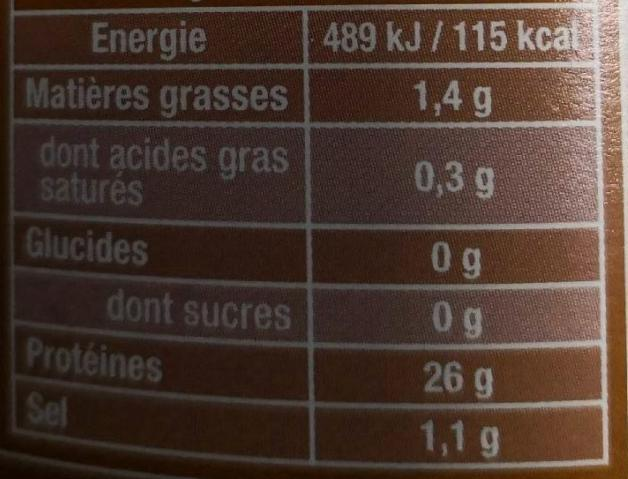column: (22, 28, 295, 442), (321, 18, 573, 454)
line: (26, 139, 572, 212), (29, 402, 573, 453), (29, 344, 572, 394), (25, 287, 571, 335), (27, 231, 574, 276), (24, 21, 575, 60), (22, 80, 575, 115)
table: (2, 10, 617, 466)
